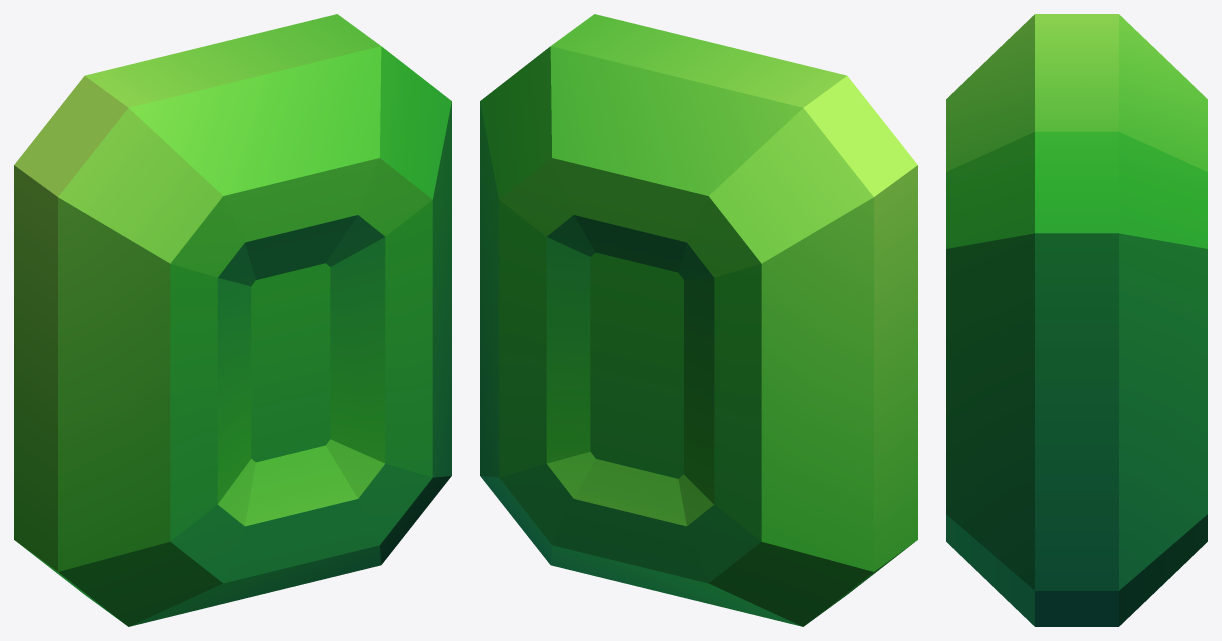
The model's file is Emerald_03.glb.
3 views of the same model, side by side, from view 1: azimuth 30°, elevation 25°; view 2: azimuth 150°, elevation 25°; view 3: azimuth 270°, elevation 25° (orthographic). The views are drawn at different scales.
Visible parts, largest first — view 1: Emerald_03; view 2: Emerald_03; view 3: Emerald_03.
Part boxes in pixels (bbox=[...]): Emerald_03: bbox=[14, 14, 451, 626]; Emerald_03: bbox=[480, 14, 917, 626]; Emerald_03: bbox=[946, 14, 1207, 626].
Size of the model in its own units: 0.3988 by 0.5023 by 0.2406.
Materials: 1 (1 with a texture image).
